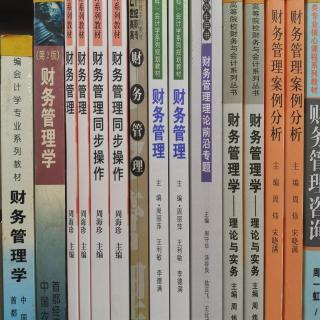book-spine: (189, 1, 224, 319), (32, 1, 66, 318), (0, 34, 35, 319), (106, 2, 131, 319), (261, 2, 286, 319), (241, 0, 265, 319), (87, 1, 111, 319), (282, 3, 306, 319), (127, 3, 150, 320), (167, 0, 190, 317), (149, 2, 170, 318), (223, 1, 243, 320), (302, 3, 319, 319), (63, 2, 79, 320), (76, 1, 92, 319)
